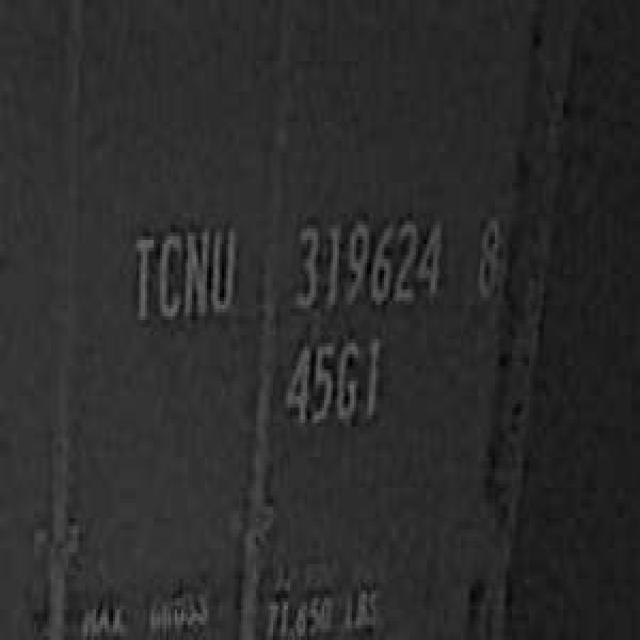dv: (469, 198, 504, 305)
owner: (126, 210, 239, 332)
serial: (288, 202, 446, 320)
size: (282, 332, 386, 434)
